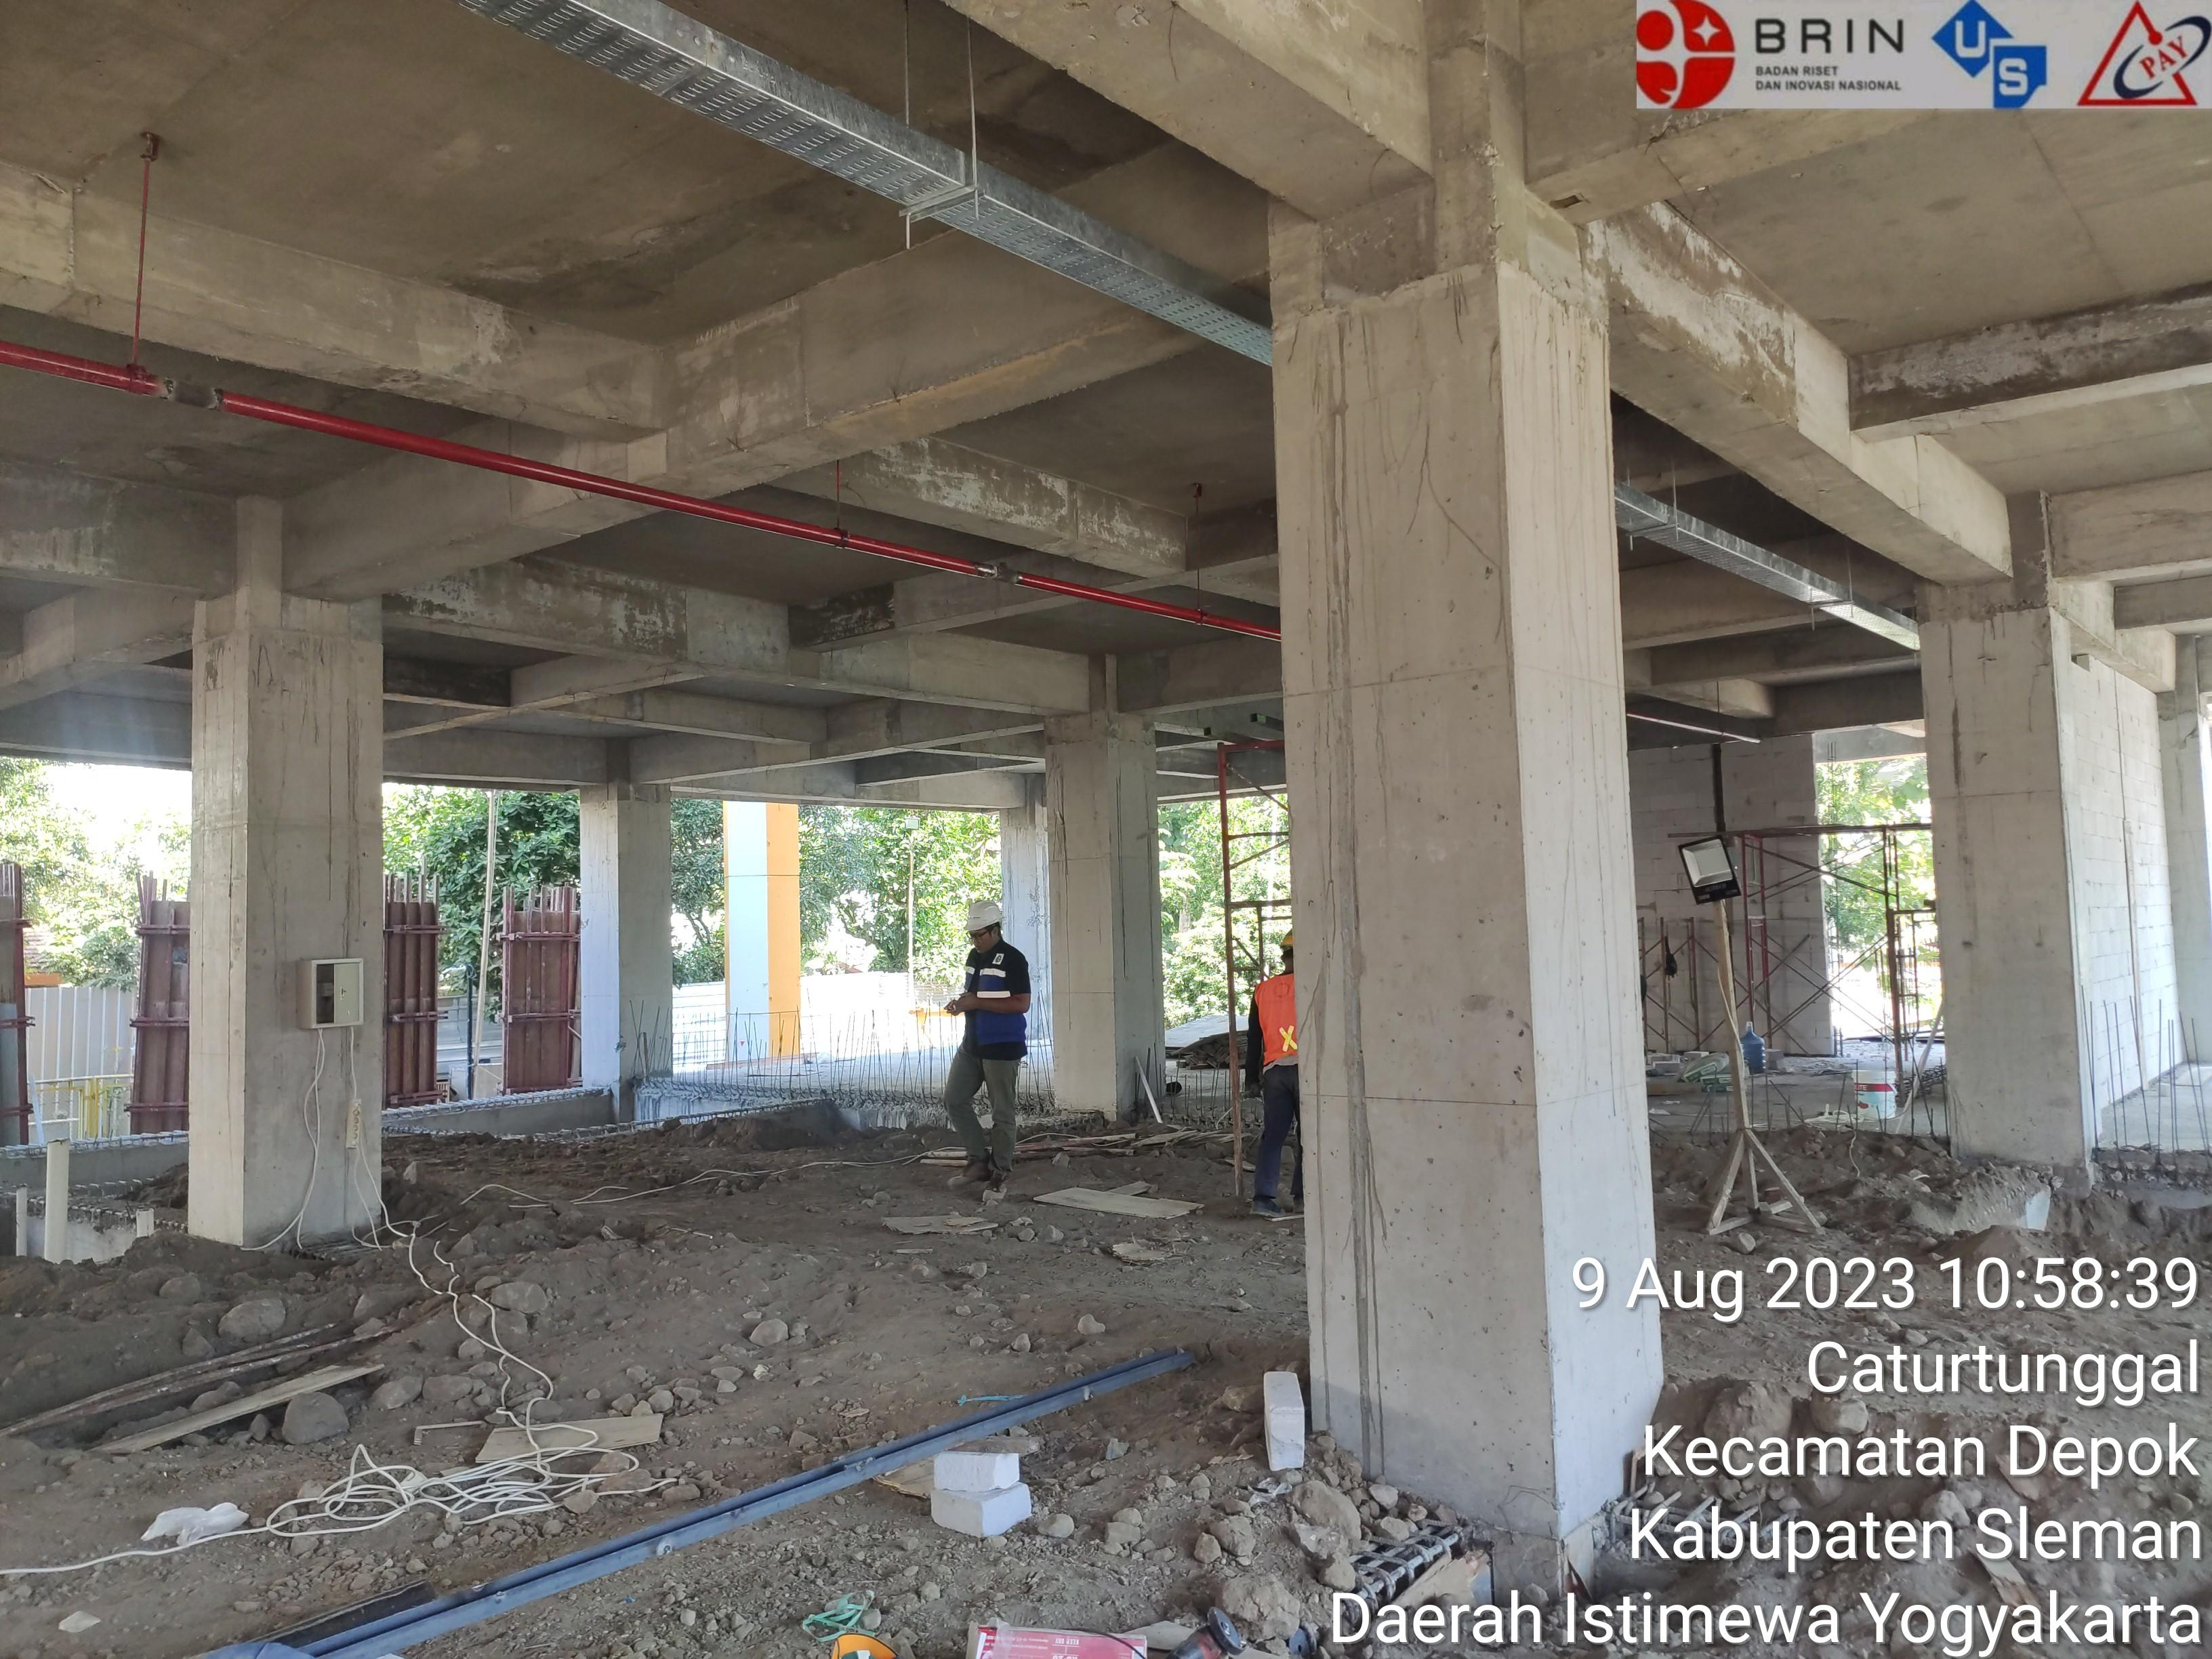hat: (944, 882, 1017, 953), (1268, 918, 1301, 972)
vest: (1231, 964, 1327, 1094), (948, 934, 1040, 1068)
